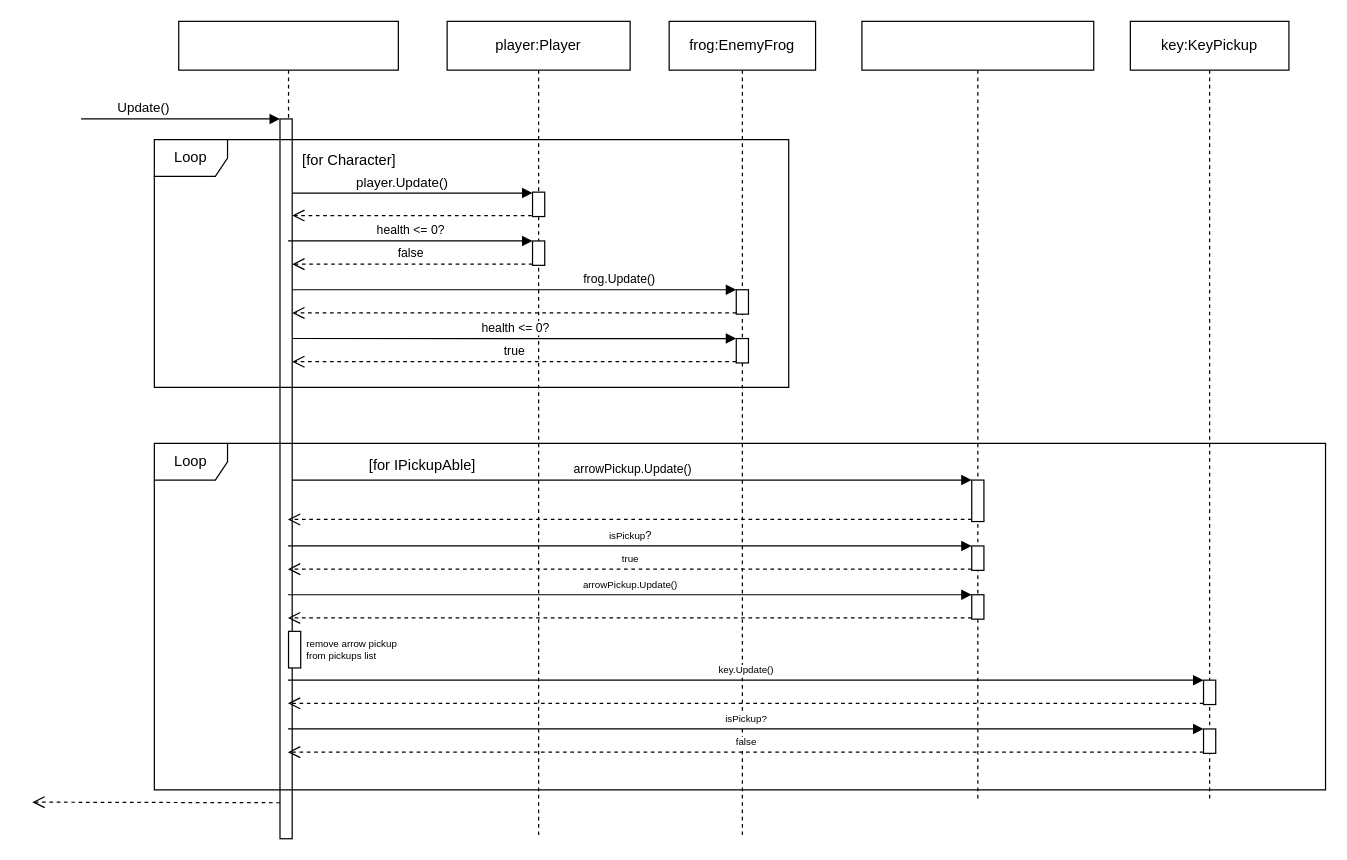
Image size: 1347x860. Some labels were removed from this diagram. The box of each missing label's shape, as (x1, y1, x2, y2) in pixels:
arrowpickup:ArrowPickup: (861, 20, 1094, 802)
gameManager:GameManager: (178, 20, 398, 839)
